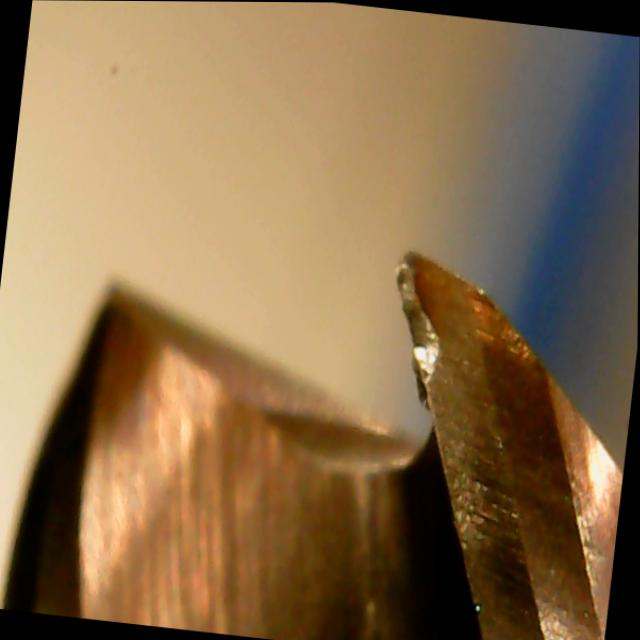Tool-wear-class-1: (341, 233, 530, 522)
